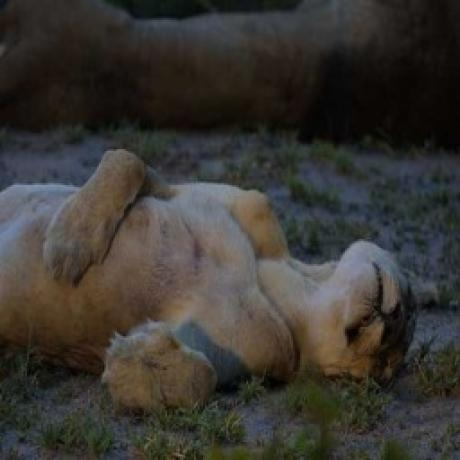Lion: (0, 143, 419, 420)
